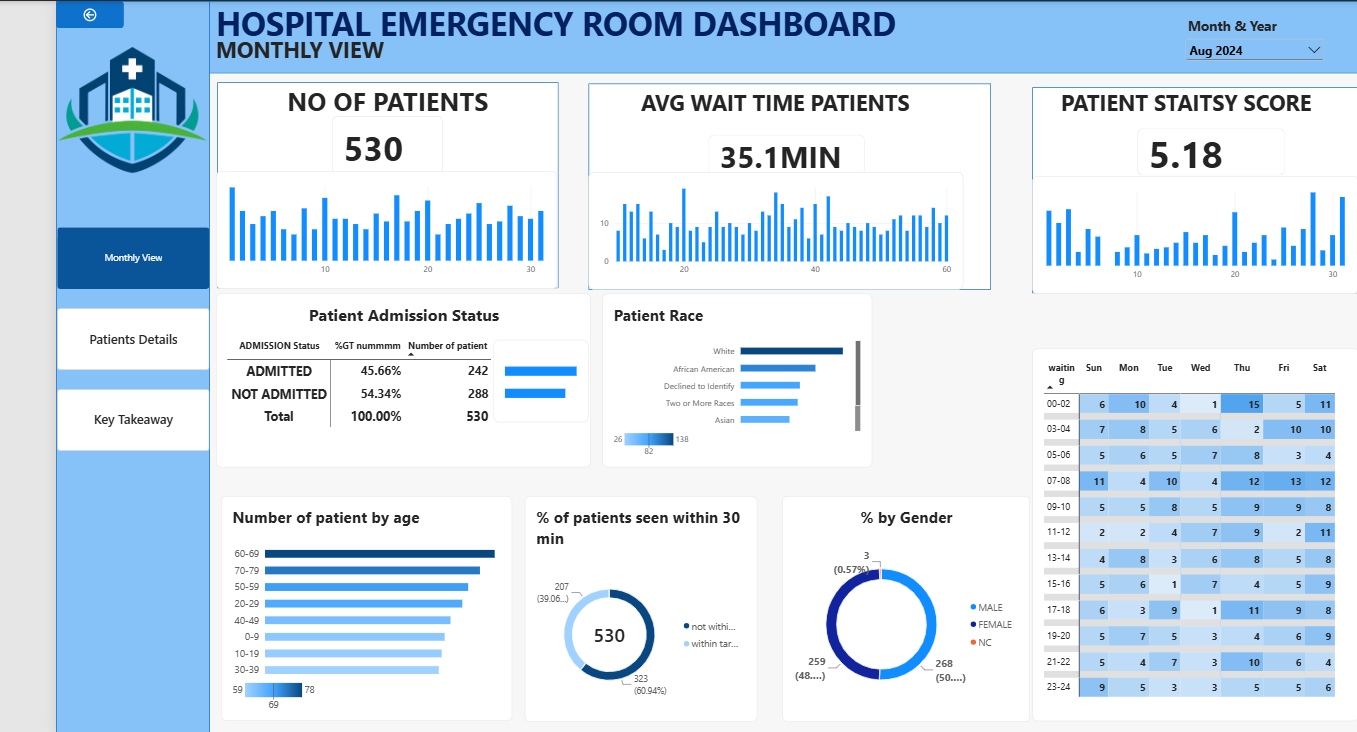

The dashboard page shown, as its layout file describes it:
{"tool":"powerbi","page":{"name":"Monthly View","canvas":[1920,1080],"ordinal":0},"visuals":[{"type":"shape","box":[224.5,0,1695.1,106.7],"z":0},{"type":"shape","box":[236.6,119.3,502.5,303.6],"z":1000},{"type":"shape","box":[0,0,226.4,1080.4],"z":2000},{"type":"slicer","fields":{"Values":["Date_table.year and month"]},"box":[1658.2,22.2,213.8,96.8],"z":3000},{"type":"textbox","box":[290.2,607.2,284,172.9],"z":4000},{"type":"textbox","box":[340.5,121.5,662.6,55.2],"z":5000},{"type":"shape","box":[784.1,121.5,592.6,303.7],"z":6000},{"type":"textbox","box":[861.4,127,416,55.2],"z":7000},{"type":"shape","box":[1437.4,127,481.6,303.6],"z":8000},{"type":"textbox","box":[1480.3,127.7,439.7,69.1],"z":9000},{"type":"cardVisual","fields":{"Data":["Hospital ER_Data.nummmm"]},"box":[406.8,169.3,163.3,87.9],"z":10000},{"type":"cardVisual","fields":{"Data":["Hospital ER_Data.avg waiting time"]},"box":[960.7,196.9,230.3,60.7],"z":12000},{"type":"cardVisual","fields":{"Data":["Hospital ER_Data.STATISFY SCORE"]},"box":[1592,187.7,217.8,69.1],"z":14000},{"type":"pivotTable","title":"Patient Admission Status","fields":{"Rows":["Hospital ER_Data.ADMISSION Status"],"Values":["Hospital ER_Data.nummmm","Hospital ER_Data.nummmm1"]},"box":[235.6,430.7,552.2,255.8],"z":16000},{"type":"actionButton","box":[0,0,100,40],"z":17000},{"type":"barChart","title":"No of patient by admitted status","fields":{"Category":["Hospital ER_Data.ADMISSION Status"],"Y":["Hospital ER_Data.nummmm"]},"box":[644.2,498.8,139.9,121.5],"z":17001},{"type":"clusteredBarChart","title":"Number of patient by age","fields":{"Category":["Hospital ER_Data.age"],"Y":["Hospital ER_Data.nummmm"]},"box":[242.9,728.8,428.8,331.3],"z":17002},{"type":"clusteredBarChart","title":"Patient Race","fields":{"Category":["Hospital ER_Data.Patient Race"],"Y":["Hospital ER_Data.nummmm"]},"box":[804.3,430.7,397.5,255.8],"z":17005},{"type":"donutChart","title":"% of patients seen within 30 min","fields":{"Category":["Hospital ER_Data.waiting stauts"],"Y":["Hospital ER_Data.nummmm"]},"box":[690.2,728.8,342.3,333.1],"z":17007},{"type":"clusteredColumnChart","fields":{"Category":["Date_table.Date.Variation.Date Hierarchy.Day"],"Y":["Sum(Hospital ER_Data.Patient Satisfaction Score)"]},"box":[1437.4,257.7,481.6,173.8],"z":17008},{"type":"clusteredColumnChart","fields":{"Category":["Date_table.Date.Variation.Date Hierarchy.Day"],"Y":["Hospital ER_Data.nummmm"]},"box":[235.6,250.3,502.5,173.8],"z":17009},{"type":"clusteredColumnChart","fields":{"Category":["Hospital ER_Data.Patient Waittime"],"Y":["Hospital ER_Data.nummmm"]},"box":[784.1,252.1,552.2,173],"z":17010},{"type":"pivotTable","fields":{"Columns":["Date_table.nigga"],"Rows":["Hospital ER_Data.waiting 12"],"Values":["Hospital ER_Data.nummmm"]},"box":[1437.4,511.7,482.2,548.5],"z":17011},{"type":"donutChart","title":"% by Gender","fields":{"Category":["Hospital ER_Data.Patient Gender"],"Y":["Hospital ER_Data.nummmm"]},"box":[1069.3,728.8,364.4,333.1],"z":17012},{"type":"textbox","box":[1202,431,150,256],"z":17013},{"type":"textbox","box":[235.6,49.7,408.6,49.7],"z":17014},{"type":"textbox","box":[235.6,0,1279.1,99.4],"z":17015},{"type":"image","box":[0,5.5,224.5,300],"z":17016},{"type":"pageNavigator","box":[1.8,333.1,224.5,331.3],"z":17017}]}

Visuals, with their boxes on the page's 1920x1080 design canvas (x1, y1, x2, y2). These are canvas units, not pixel positions in the 1357x732 screenshot, which may show the page scaled, cropped or inside an application window:
shape: 224:0:1920:107
shape: 237:119:739:423
shape: 0:0:226:1080
slicer - Date_table.year and month: 1658:22:1872:119
textbox: 290:607:574:780
textbox: 340:122:1003:177
shape: 784:122:1377:425
textbox: 861:127:1277:182
shape: 1437:127:1919:431
textbox: 1480:128:1920:197
cardVisual - Hospital ER_Data.nummmm: 407:169:570:257
cardVisual - Hospital ER_Data.avg waiting time: 961:197:1191:258
cardVisual - Hospital ER_Data.STATISFY SCORE: 1592:188:1810:257
"Patient Admission Status" pivotTable: 236:431:788:686
actionButton: 0:0:100:40
"No of patient by admitted status" barChart: 644:499:784:620
"Number of patient by age" clusteredBarChart: 243:729:672:1060
"Patient Race" clusteredBarChart: 804:431:1202:686
"% of patients seen within 30 min" donutChart: 690:729:1032:1062
clusteredColumnChart - Date_table.Date.Variation.Date Hierarchy.Day x Sum(Hospital ER_Data.Patient Satisfaction Score): 1437:258:1919:432
clusteredColumnChart - Date_table.Date.Variation.Date Hierarchy.Day x Hospital ER_Data.nummmm: 236:250:738:424
clusteredColumnChart - Hospital ER_Data.Patient Waittime x Hospital ER_Data.nummmm: 784:252:1336:425
pivotTable - Date_table.nigga x Hospital ER_Data.waiting 12: 1437:512:1920:1060
"% by Gender" donutChart: 1069:729:1434:1062
textbox: 1202:431:1352:687
textbox: 236:50:644:99
textbox: 236:0:1515:99
image: 0:6:224:306
pageNavigator: 2:333:226:664
